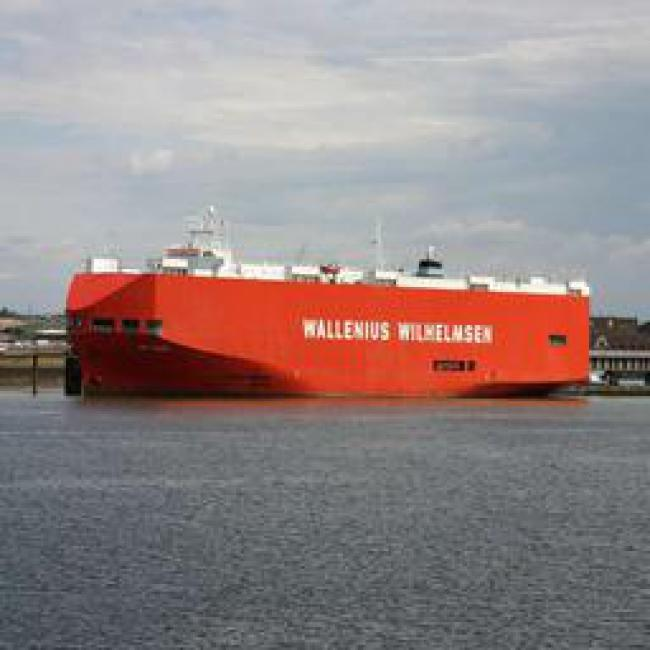Ship: (52, 252, 603, 408)
